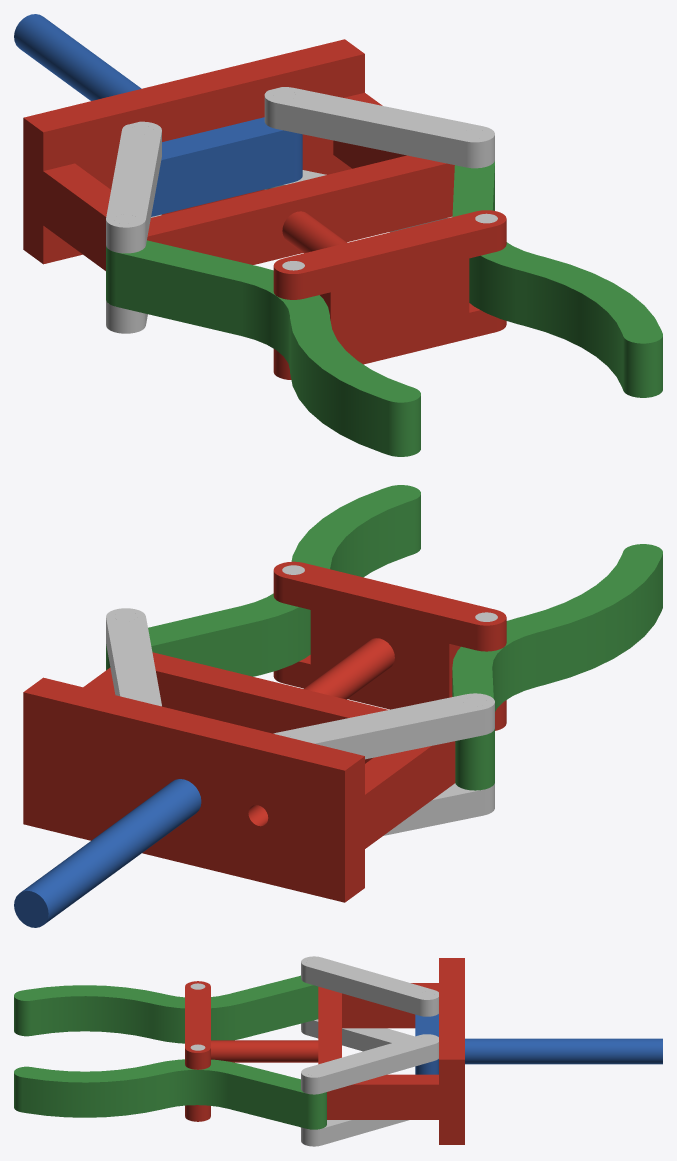
3 renders of one model, top to bottom at view 1: azimuth 30°, elevation 25°; view 2: azimuth 150°, elevation 25°; view 3: azimuth 270°, elevation 25°, orthographic. The views are drawn at different scales.
Visible parts, largest first — view 1: Body1, Body1:12, Body1:13, Body1:1, Body1:6, Body1:8, Body1:9; view 2: Body1, Body1:12, Body1:13, Body1:1, Body1:8, Body1:6, Body1:9; view 3: Body1, Body1:13, Body1:12, Body1:1, Body1:6, Body1:8, Body1:7, Body1:9.
Part boxes in pixels (x1,y1,x2,y2): Body1: (23, 39, 506, 379); Body1:12: (106, 240, 420, 456); Body1:13: (452, 161, 662, 397); Body1:1: (14, 14, 302, 216); Body1:6: (264, 87, 494, 168); Body1:8: (106, 121, 161, 253); Body1:9: (106, 214, 161, 333); Body1: (23, 561, 506, 902); Body1:12: (452, 544, 662, 790); Body1:13: (106, 485, 420, 676); Body1:1: (14, 779, 201, 927); Body1:8: (273, 693, 494, 759); Body1:6: (106, 608, 161, 706); Body1:9: (383, 783, 494, 835); Body1: (185, 958, 464, 1144); Body1:13: (14, 1059, 326, 1129); Body1:12: (14, 975, 318, 1043); Body1:1: (415, 1014, 662, 1074); Body1:6: (301, 1034, 438, 1094); Body1:8: (301, 956, 438, 1016); Body1:7: (301, 1120, 408, 1146); Body1:9: (301, 1019, 414, 1051).
Size of the model in its own units: 77.56 by 25.5 by 175.
